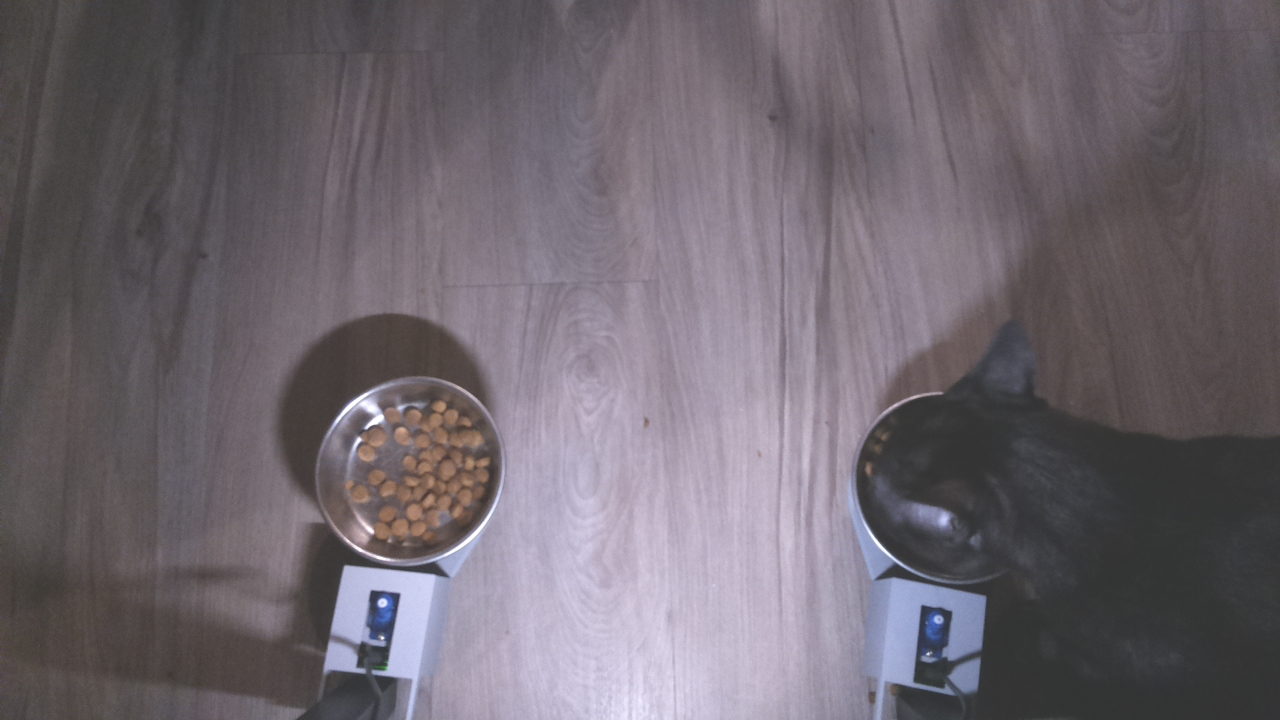open_bowl: (314, 375, 507, 569)
saki_eating: (849, 311, 1106, 597)
